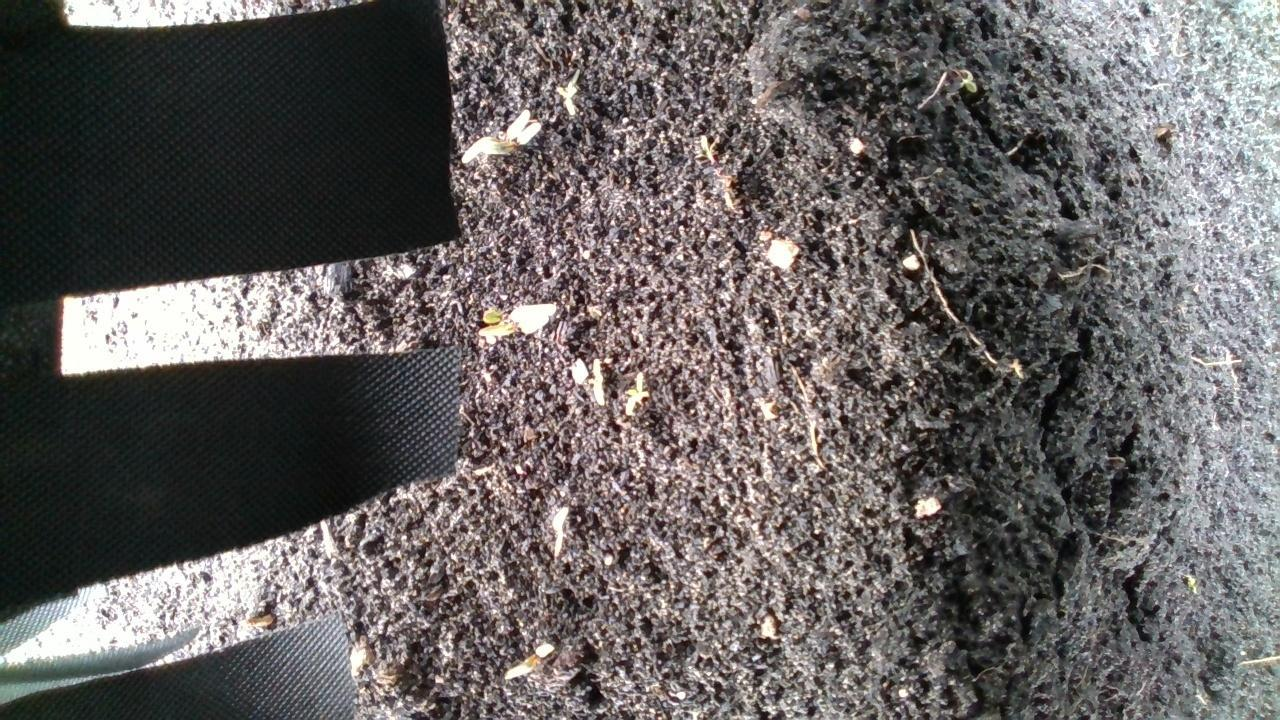weed: (494, 639, 559, 681)
